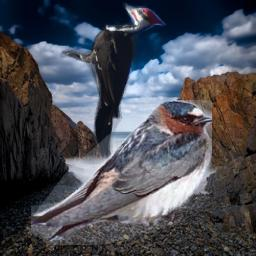Swallow: (31, 100, 212, 245)
Woodpecker: (60, 2, 166, 160)
